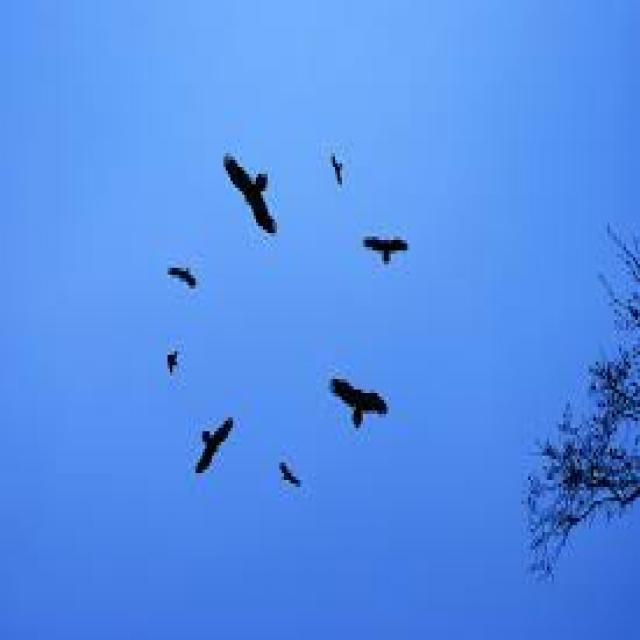bird: (208, 108, 294, 264), (321, 350, 400, 450), (148, 243, 244, 310), (265, 431, 328, 529), (191, 384, 240, 502), (368, 214, 430, 301), (158, 346, 204, 394), (318, 134, 348, 183)
